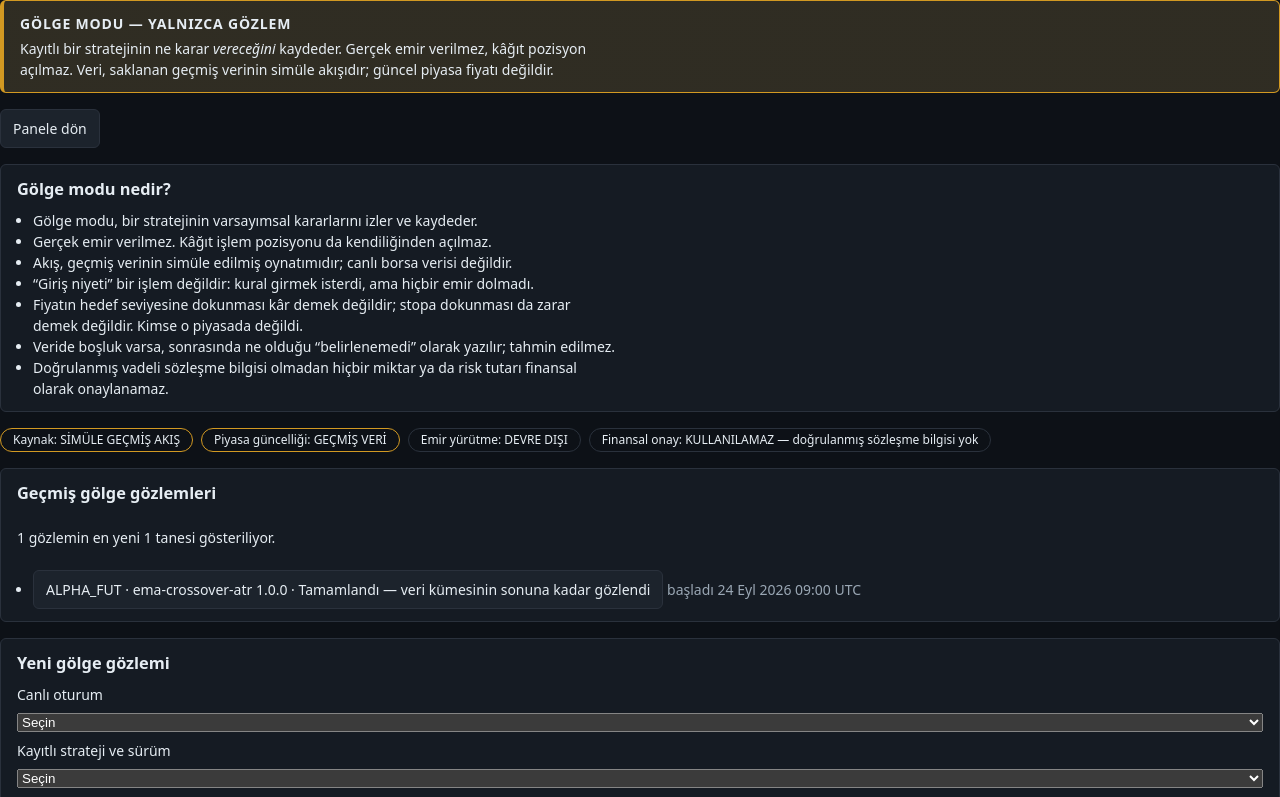
Test: a run, its decisions and what came after › lists observed, unavailable, invalidated and ambiguous developments as words
Click the button "ALPHA_FUT" at (348, 590), box [33, 570, 663, 609]
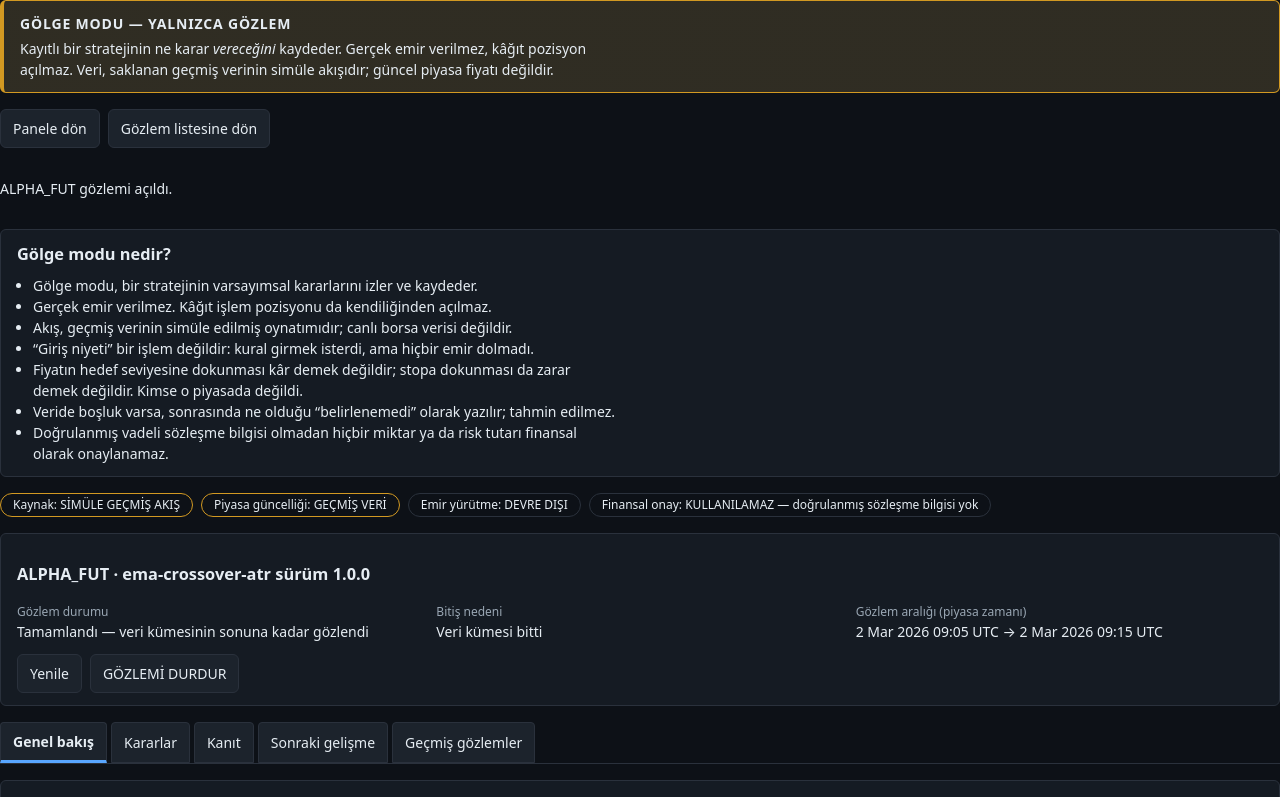
Check: the element named "Gölge gözlemi bölümleri" is shown, box [0, 722, 1279, 764]
Click the tab "Sonraki gelişme" at (323, 742), box [258, 722, 388, 763]
(page scrolled)
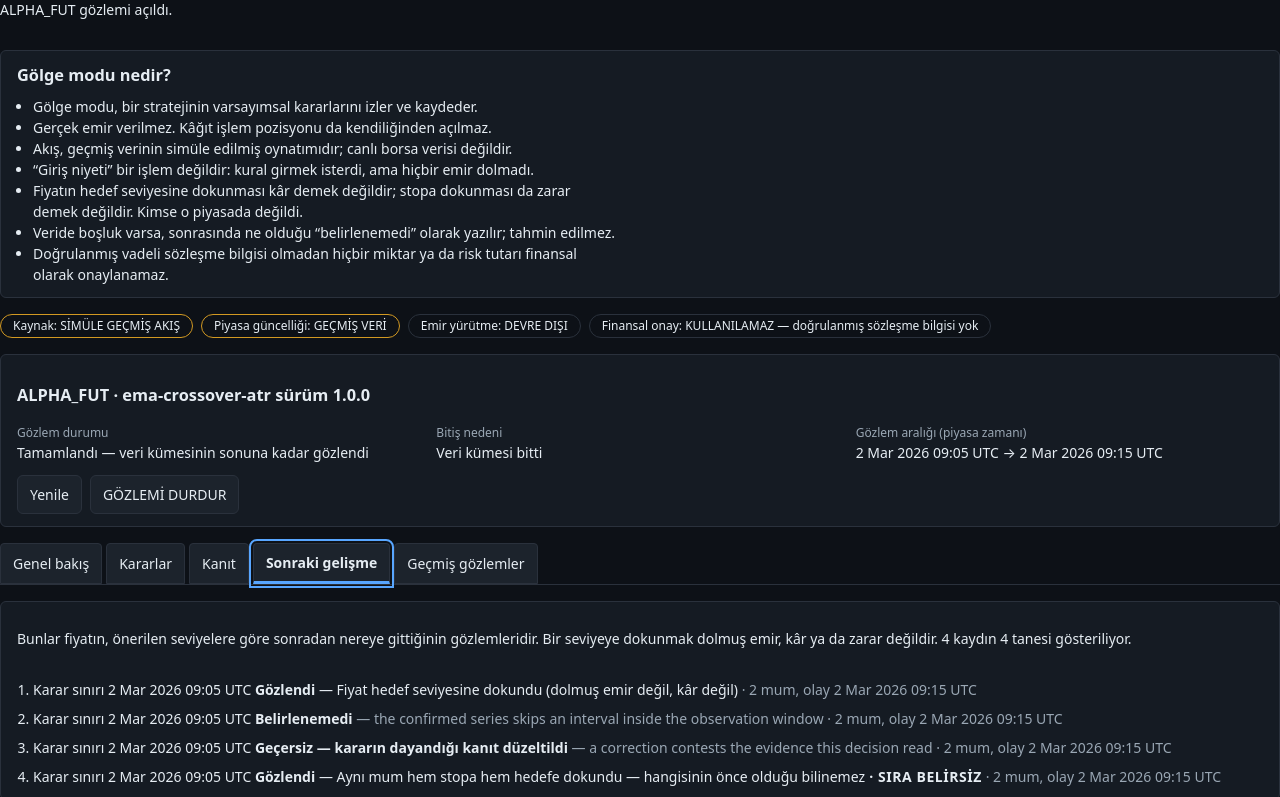
Check: the text "skips an interval" is shown, box [374, 709, 824, 728]
Check: the text "Gözlendi" is shown 2 times, box [255, 680, 315, 699]; [255, 767, 315, 786]
Check: the text "Belirlenemedi" is shown, box [255, 709, 353, 728]
